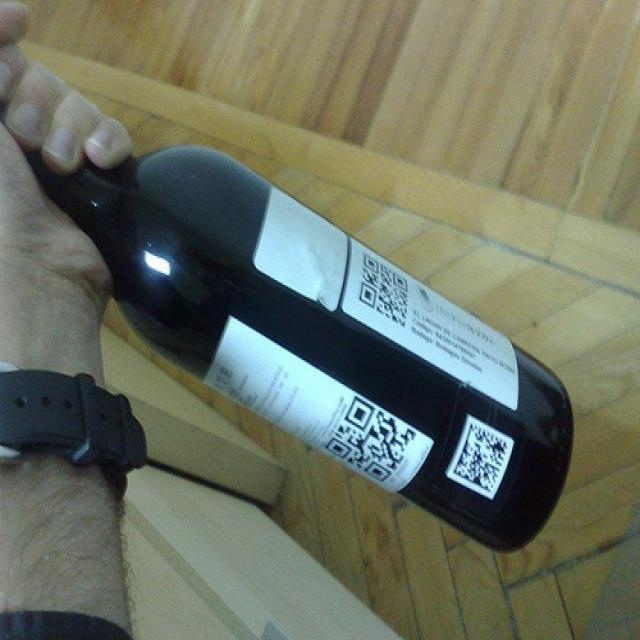qrcode: (325, 397, 417, 484), (361, 253, 409, 326)
